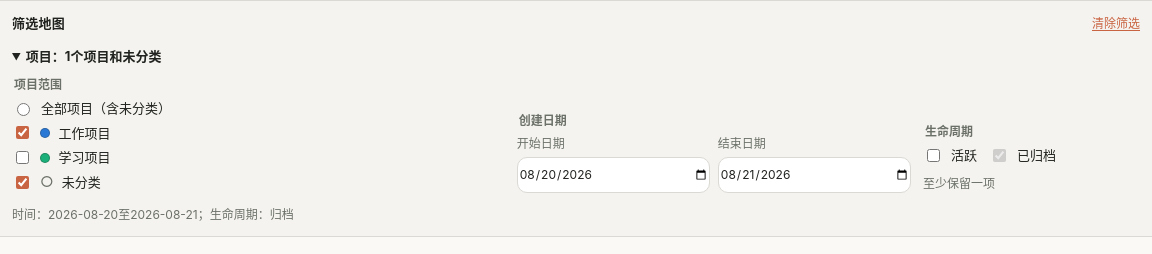
it: ResearchMapFilters › 清除筛选恢复默认状态
What coordinates should you click on to do the following:
click the button "清除筛选"
I would click on:
 (1116, 24)
Its box is x1=1092 y1=14 x2=1140 y2=33.
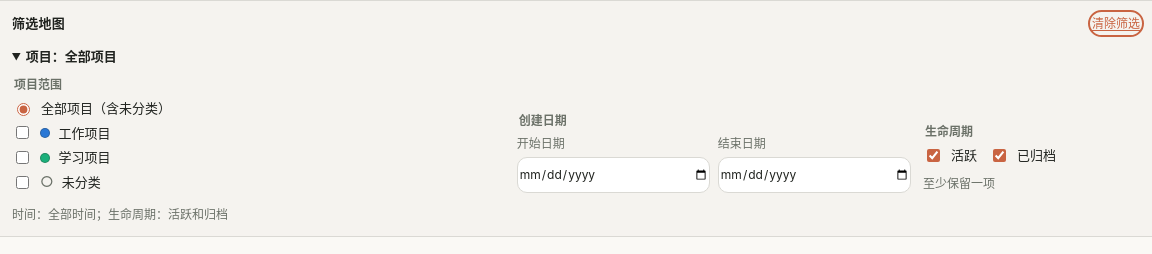
Now the radio button labelled "全部项目（含未分类）" is checked, box x1=17 y1=103 x2=30 y2=116
Now the date field labelled "开始日期" is empty, box x1=517 y1=157 x2=710 y2=193
Now the checkbox labelled "活跃" is checked, box x1=927 y1=149 x2=940 y2=162
